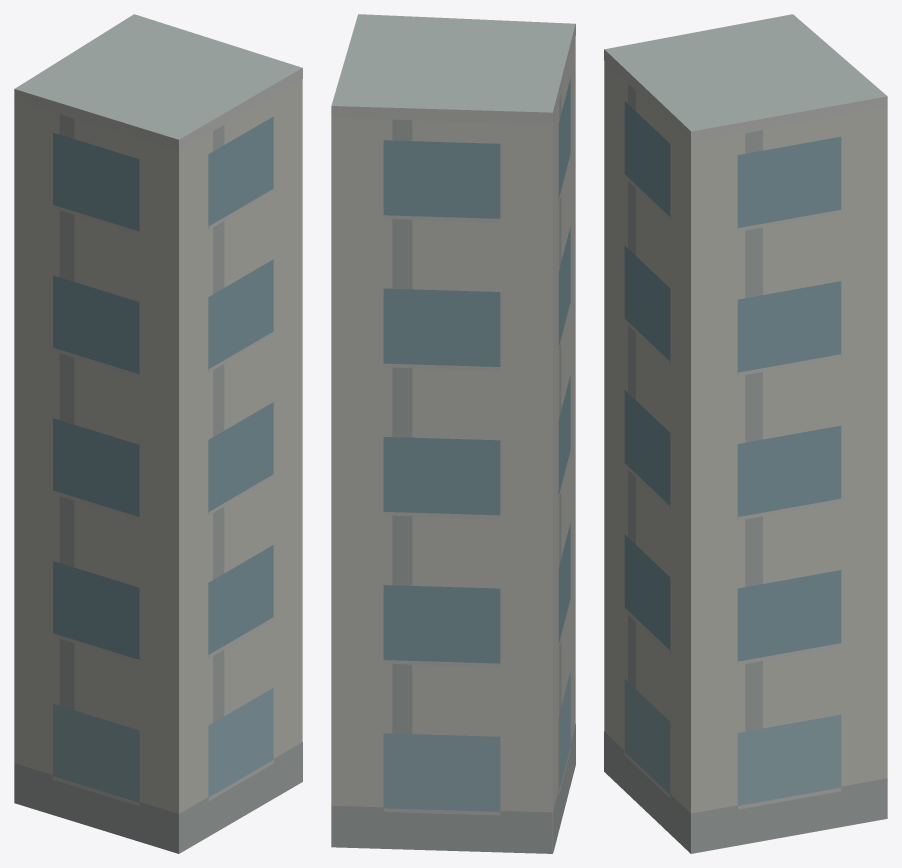
File: survey-upis-32701104.glb
3 renders of one model, left to right at view 1: azimuth 30°, elevation 25°; view 2: azimuth 150°, elevation 25°; view 3: azimuth 270°, elevation 25°, orthographic. The views are drawn at different scales.
Visible parts, largest first — view 1: survey-upis-32701104.tmp; view 2: survey-upis-32701104.tmp; view 3: survey-upis-32701104.tmp.
Part boxes in pixels (x1,y1,x2,y2): survey-upis-32701104.tmp: [14, 14, 302, 853]; survey-upis-32701104.tmp: [331, 14, 575, 853]; survey-upis-32701104.tmp: [604, 14, 887, 853].
Bounding box in the file's own units: 5.33 × 15.25 × 5.43.
